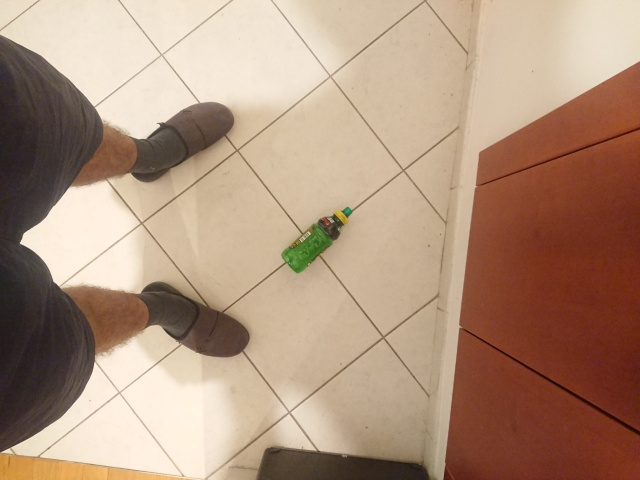Vindi Iso Sport Lemon-Grapefruit 500mL: (279, 205, 354, 276)
